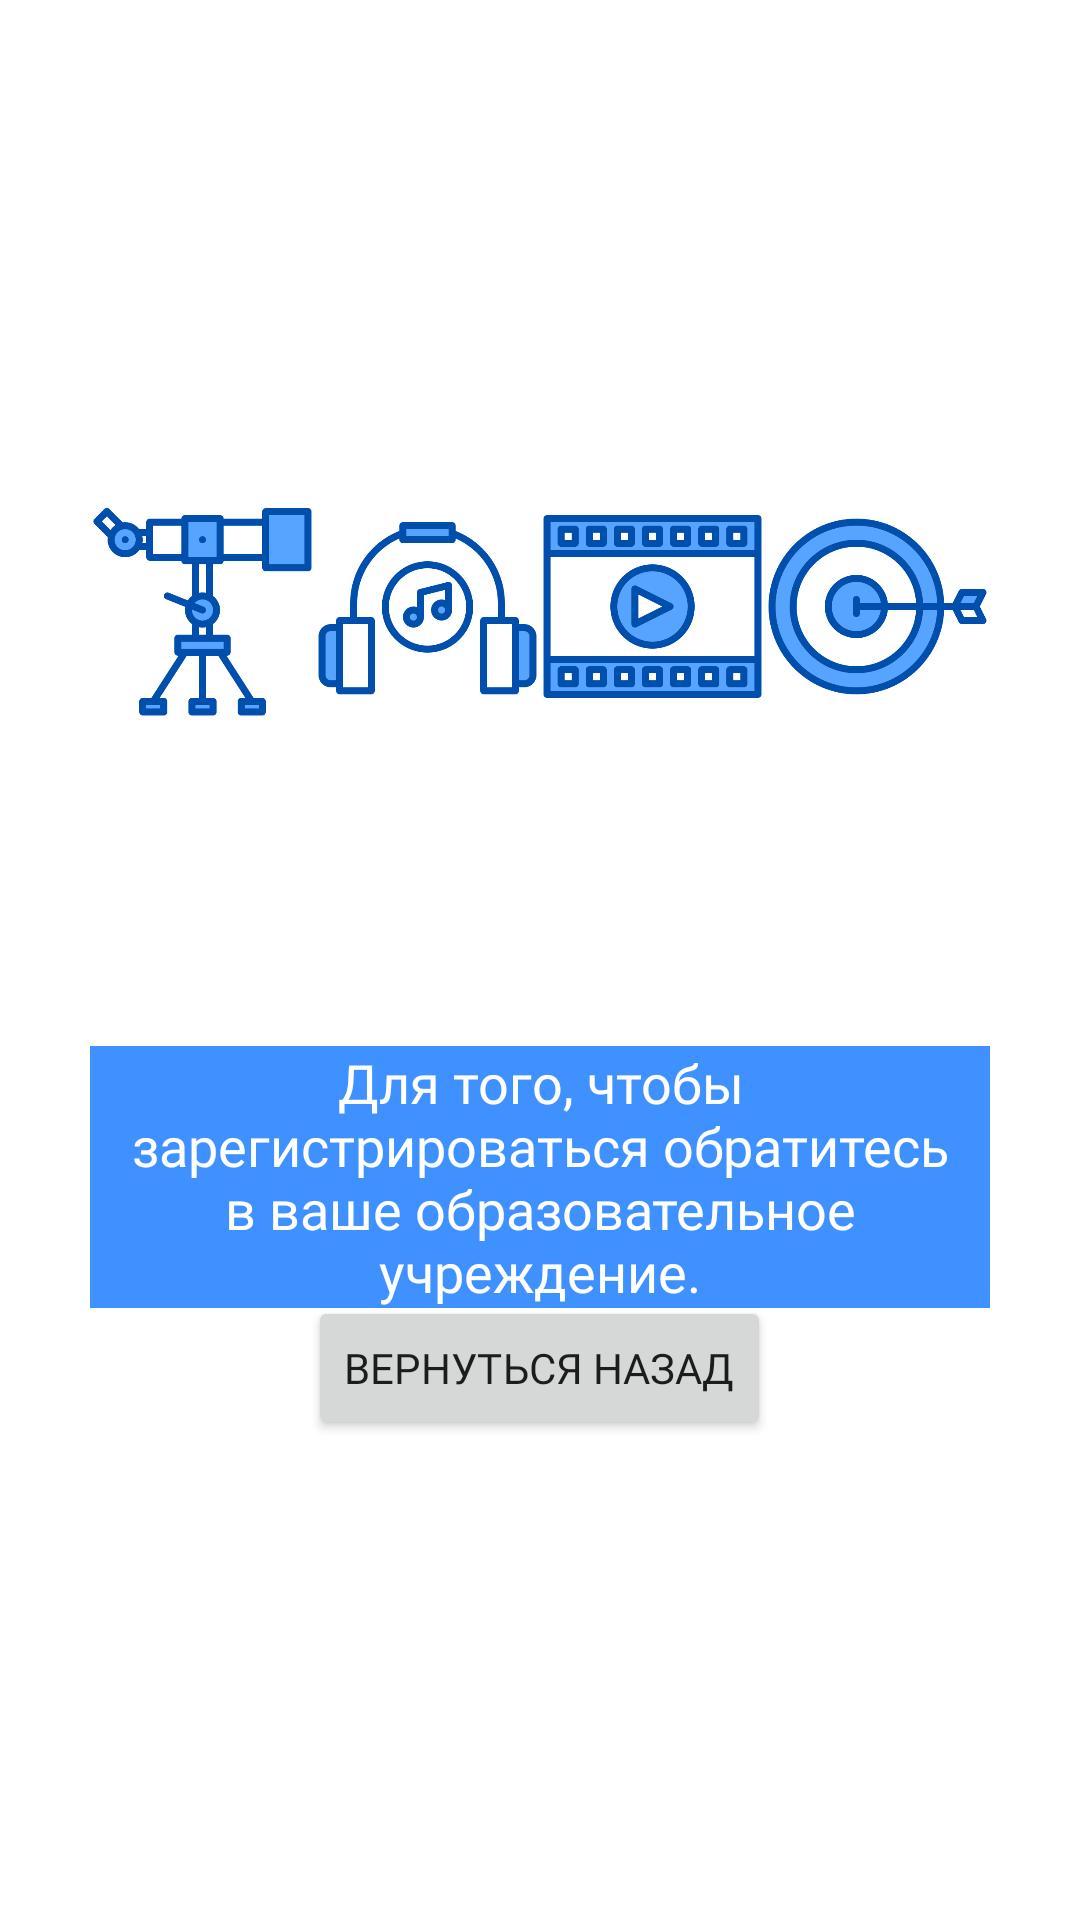

Named icons in this screenshot (1080 × 1920) and their centers, (x=x, y=y):
archery: (x=877, y=606)
film: (x=652, y=606)
headphones: (x=427, y=608)
star gazing: (x=202, y=612)
